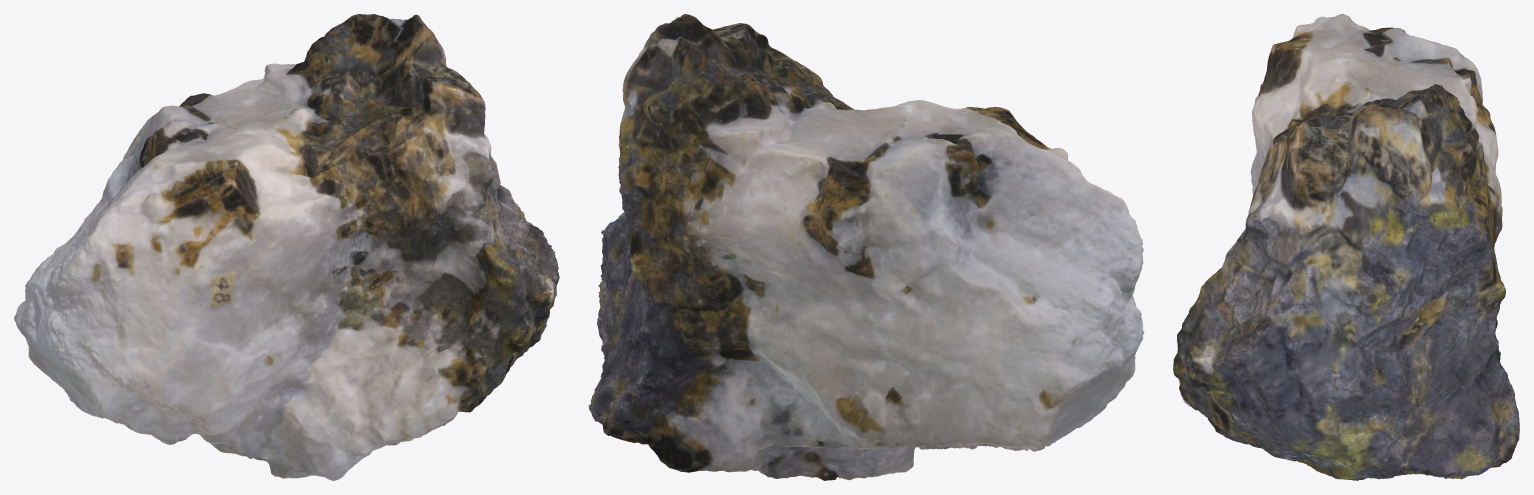
Rendered from mineral_galena_pbs.glb.
The picture shows the model from 3 angles, left to right: view 1: azimuth 30°, elevation 25°; view 2: azimuth 150°, elevation 25°; view 3: azimuth 270°, elevation 25°; orthographic projection. The views are drawn at different scales.
Visible parts, largest first — view 1: Object_2, Object_3, Object_4, Object_5; view 2: Object_2, Object_4, Object_3, Object_5; view 3: Object_4, Object_3, Object_2, Object_5.
Part boxes in pixels (x1,y1,x2,y2): Object_2: (14,60,558,478); Object_3: (89,14,559,458); Object_4: (137,14,559,451); Object_5: (104,106,370,480); Object_2: (588,23,1144,473); Object_4: (589,14,970,480); Object_3: (591,14,1070,478); Object_5: (770,107,1057,479); Object_4: (1173,39,1518,479); Object_3: (1173,14,1519,480); Object_2: (1238,14,1510,476); Object_5: (1255,14,1466,167).
Bounding box in the file's own units: 1.73 × 1.31 × 1.01.
Materials: 1 (1 with a texture image).
